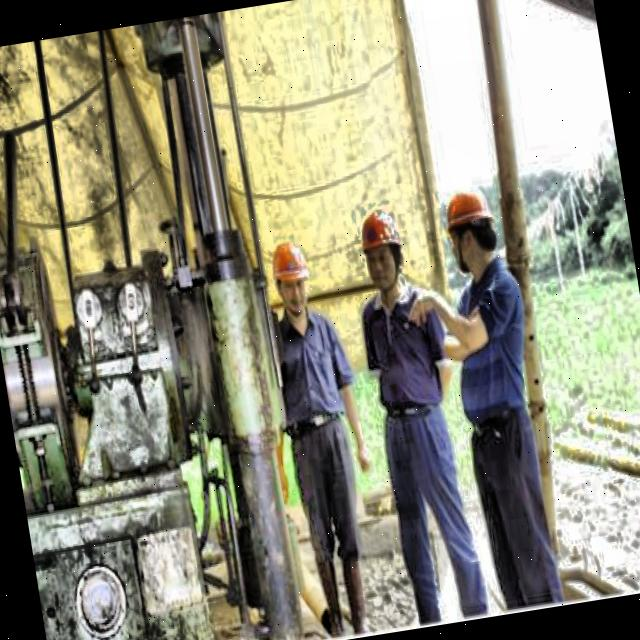helmet: (437, 181, 503, 281), (354, 202, 408, 298), (266, 232, 314, 324)
